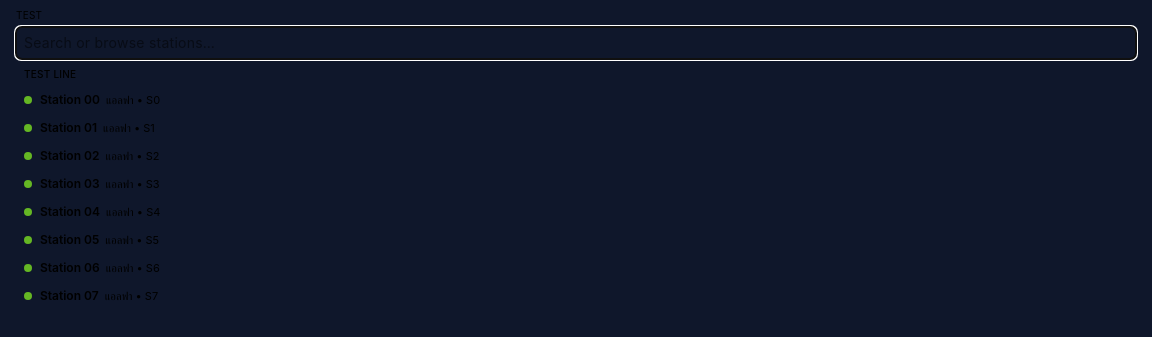
Test: StationCombobox truncated-search disclosure (Low #6) › discloses the true match count when search results are truncated
The image size is (1152, 337).
Type "station" into the dropdown at coordinates (576, 43), box [16, 27, 1136, 59]
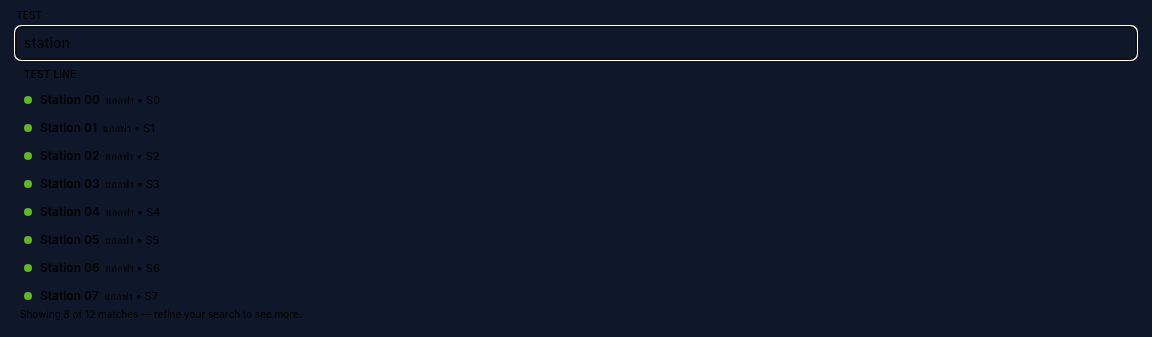
Expected: the text "Showing 8 of 12 matches — refine your search to see more." is shown, [20, 308, 302, 320]
